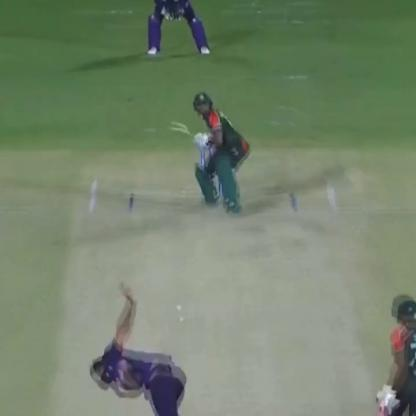bat: (55, 172, 384, 413)
pitch: (156, 114, 213, 147)
